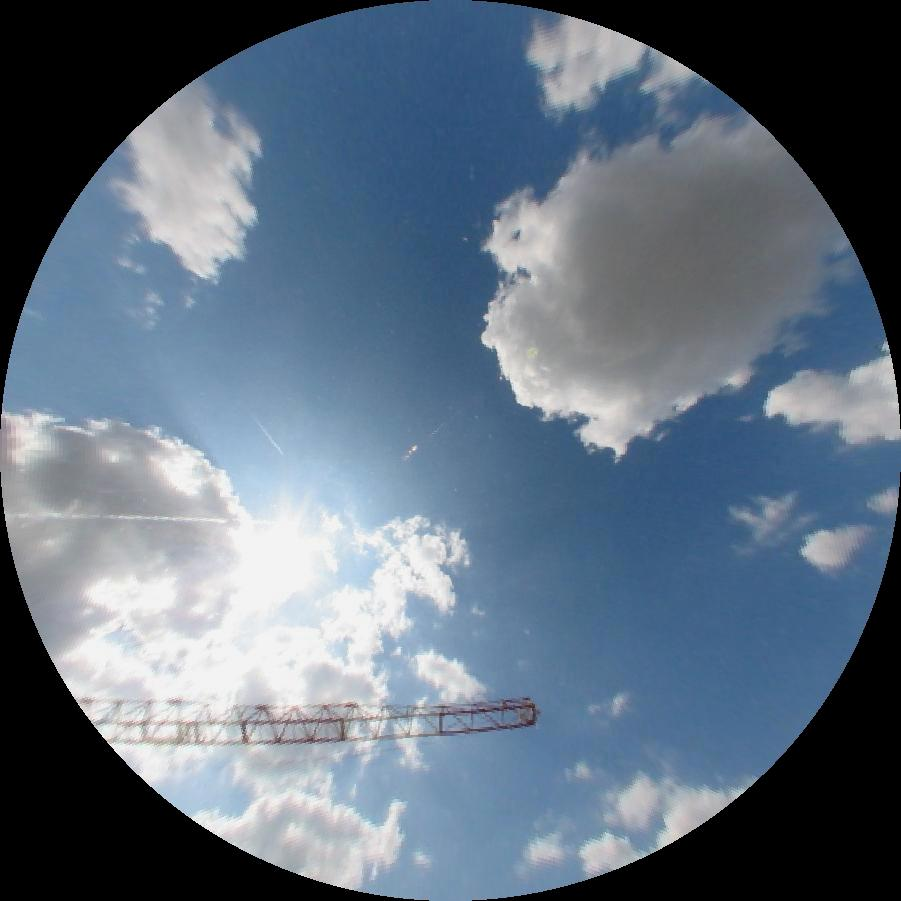contrail young: (251, 415, 286, 457)
parasite: (6, 512, 290, 524)
sun: (236, 520, 313, 598)
